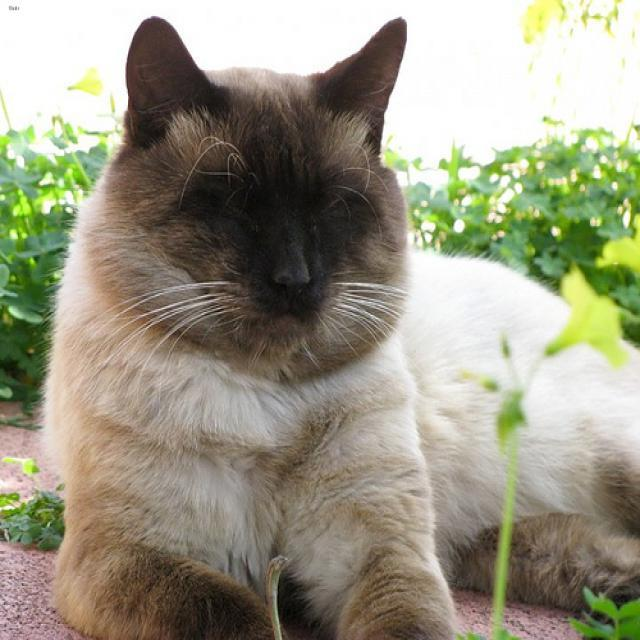Siamese: (124, 15, 405, 352)
